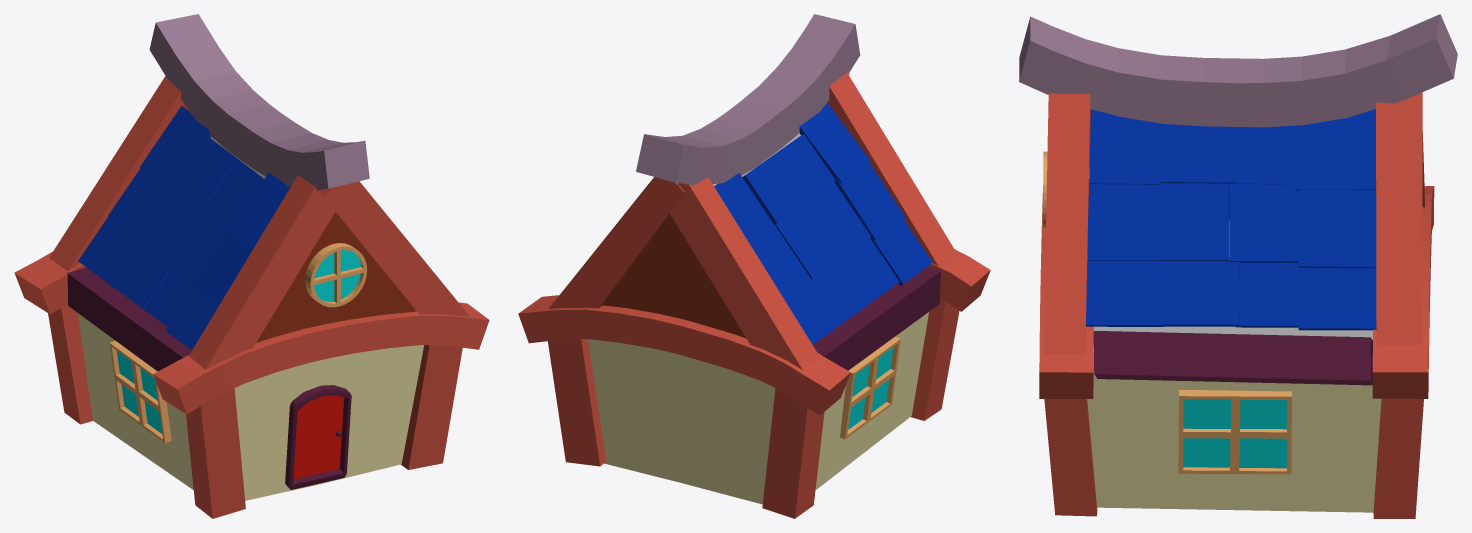
The picture shows the model from 3 angles, left to right: view 1: azimuth 30°, elevation 25°; view 2: azimuth 150°, elevation 25°; view 3: azimuth 270°, elevation 25°; orthographic projection. The views are drawn at different scales.
Visible parts, largest first — view 1: HOUSE_5; view 2: HOUSE_5; view 3: HOUSE_5.
Boxes of the visible parts, <box> form: HOUSE_5: <box>14,14,489,518</box>; HOUSE_5: <box>518,14,990,518</box>; HOUSE_5: <box>1019,14,1457,518</box>.
Bounding box in the file's own units: 722 × 780 × 720.
